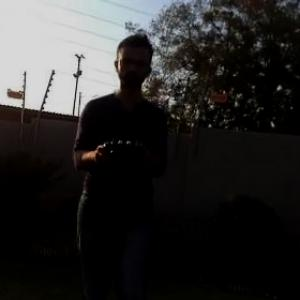follow: (66, 26, 172, 299)
